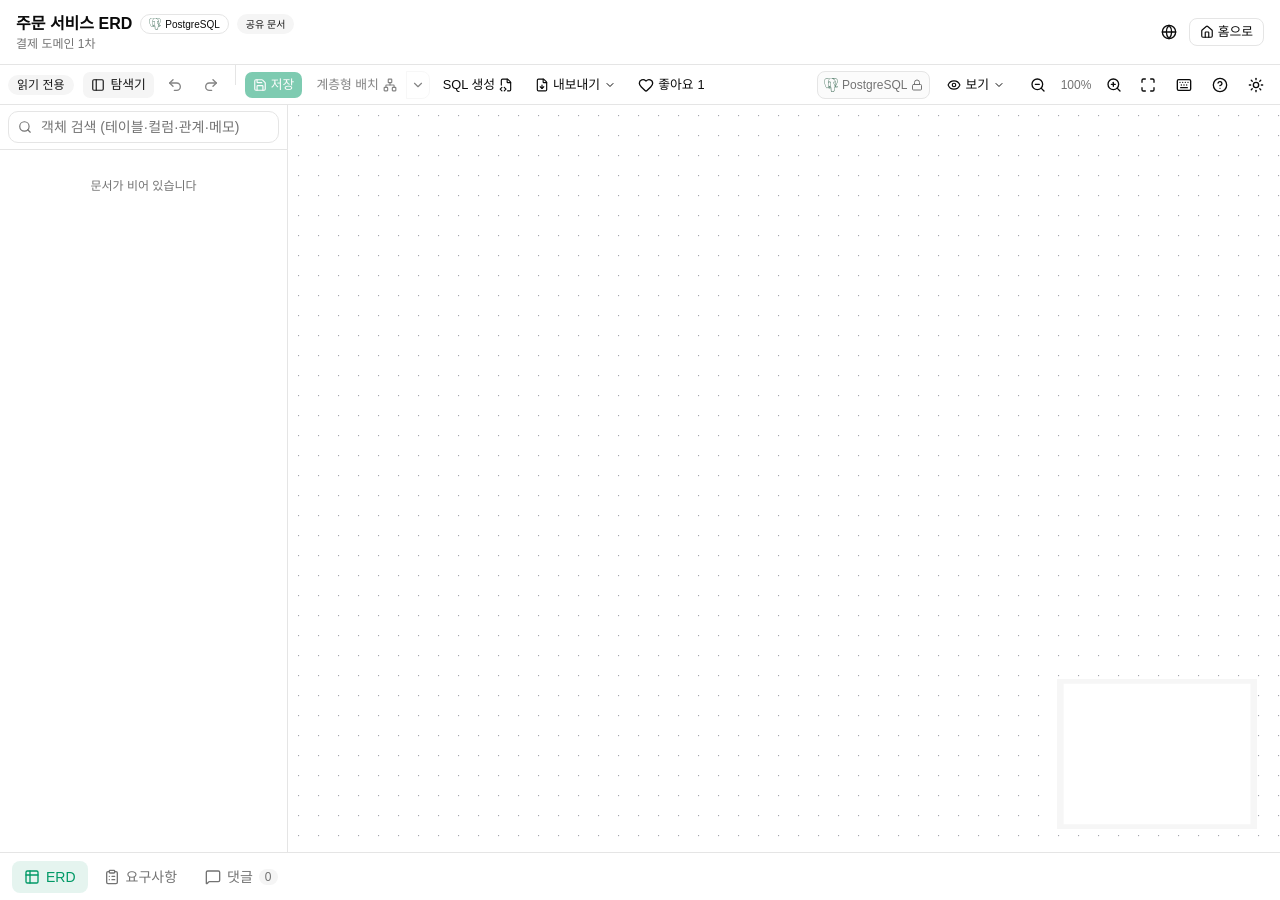
Test: 공유 문서 공개 뷰어 › bumps the comments tab badge as a comment arrives — 좋아요는 배지에 합산하지 않는다(2026-09-27 2차 보고)
Check: the text "0" is shown, box [259,868,278,884]
Click the tab "댓글 0" at (241, 876), box [193,860,290,892]
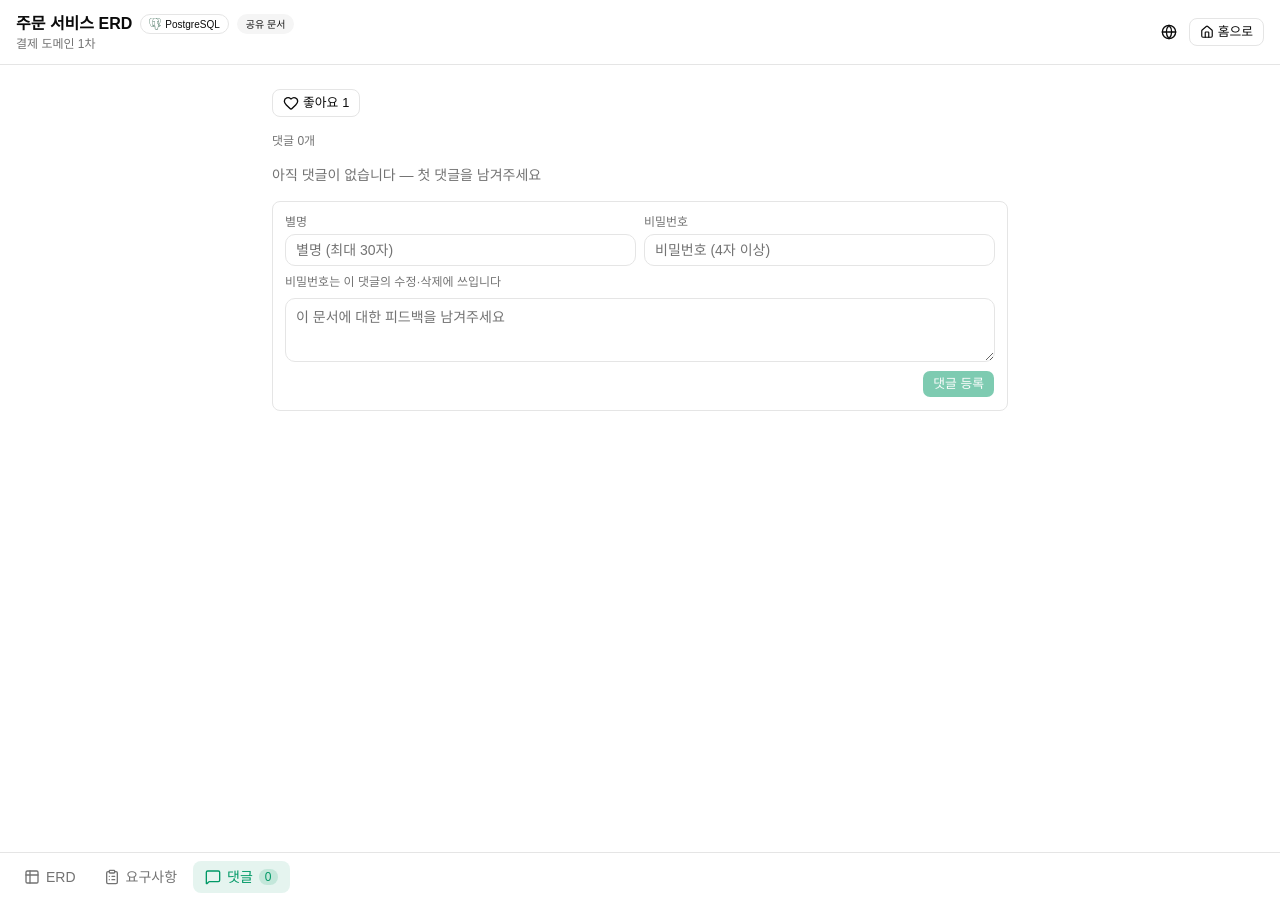
Check: the element with test id "share-feedback-section" is shown
Type "방문자" into the field with test id "share-feedback-nickname" at (460, 250), box [285,234,636,266]
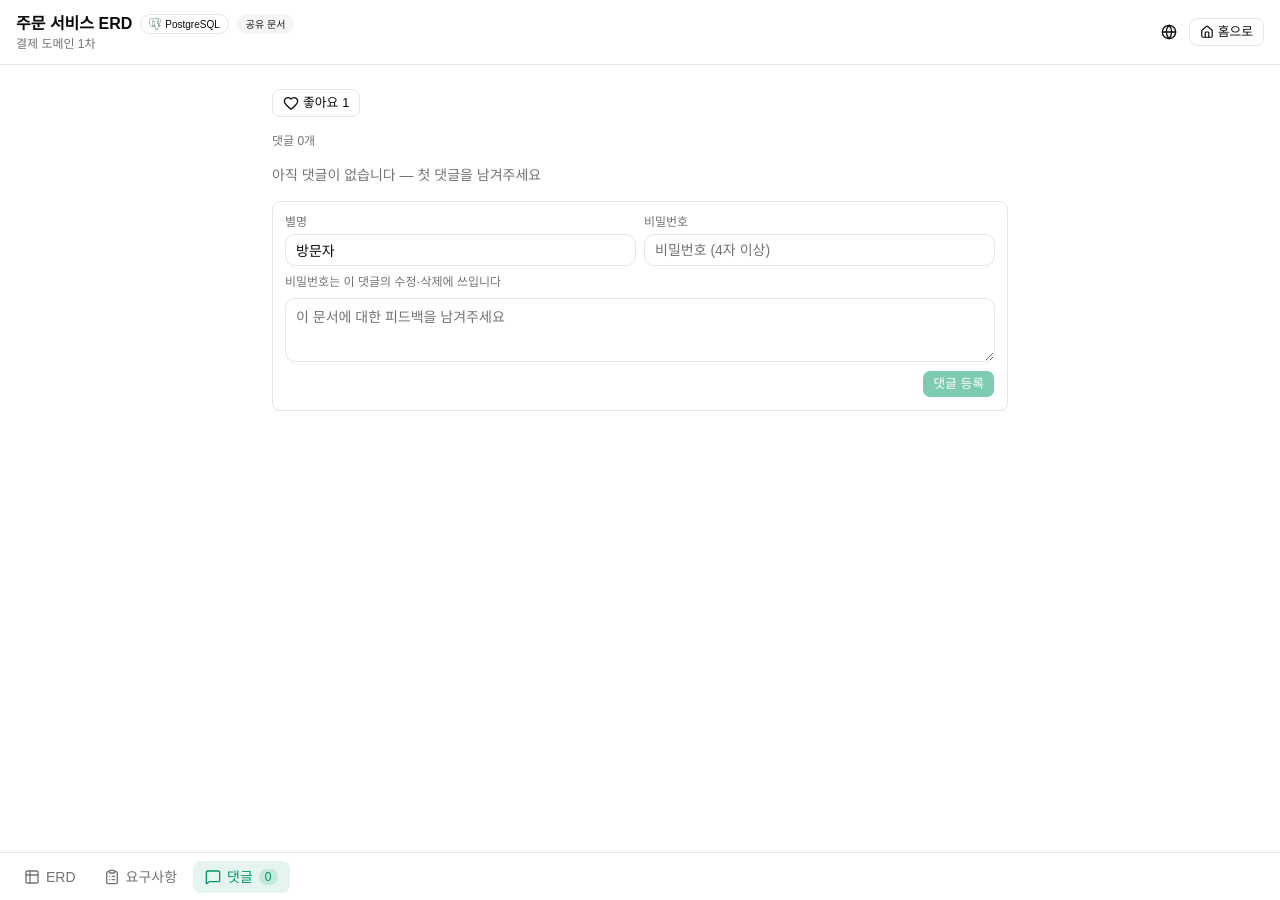
Type "1234" into the password field with test id "share-feedback-password" at (820, 250), box [644,234,995,266]
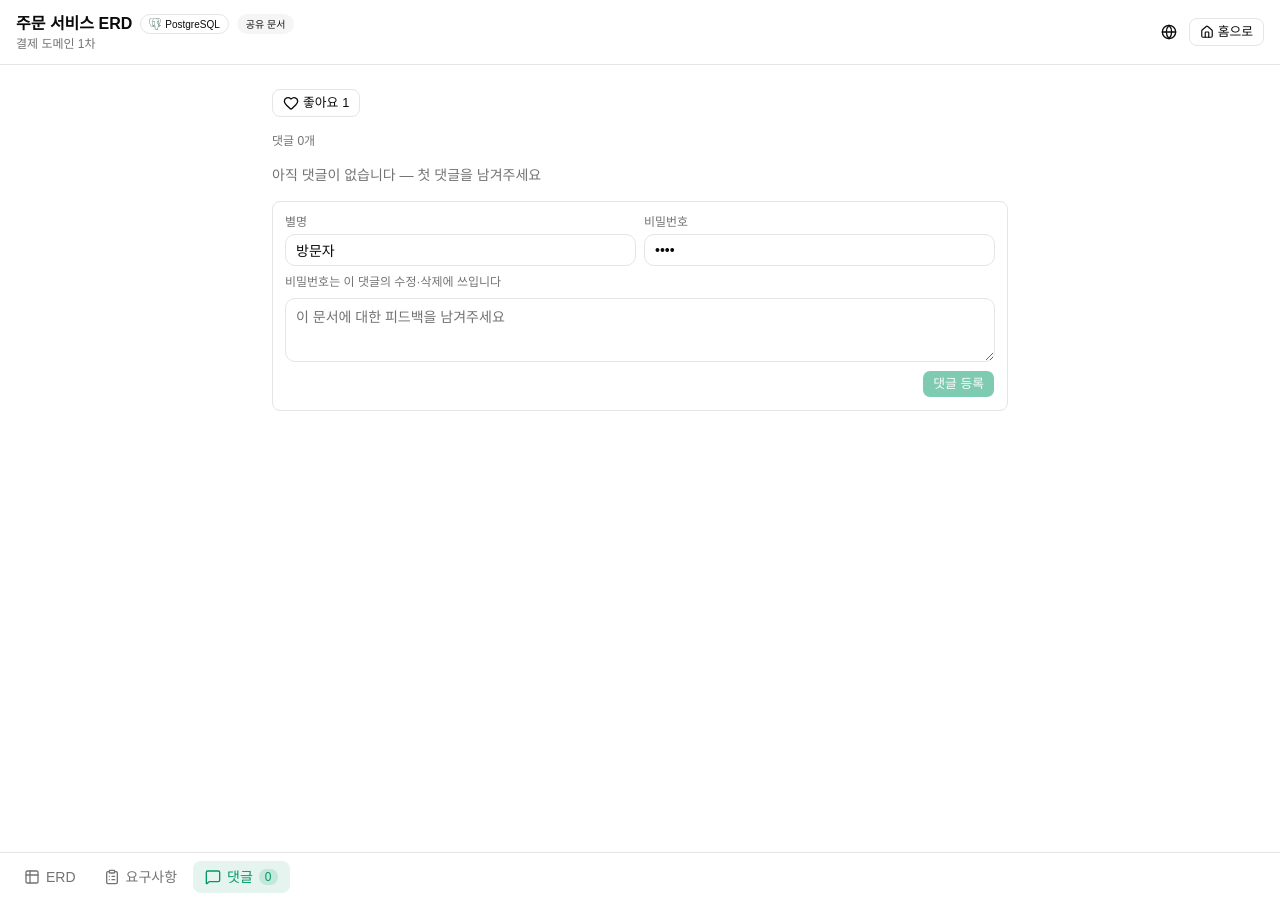
Type "구조가 한눈에 들어옵니다." into the text box with test id "share-feedback-content" at (640, 330), box [285,298,995,362]
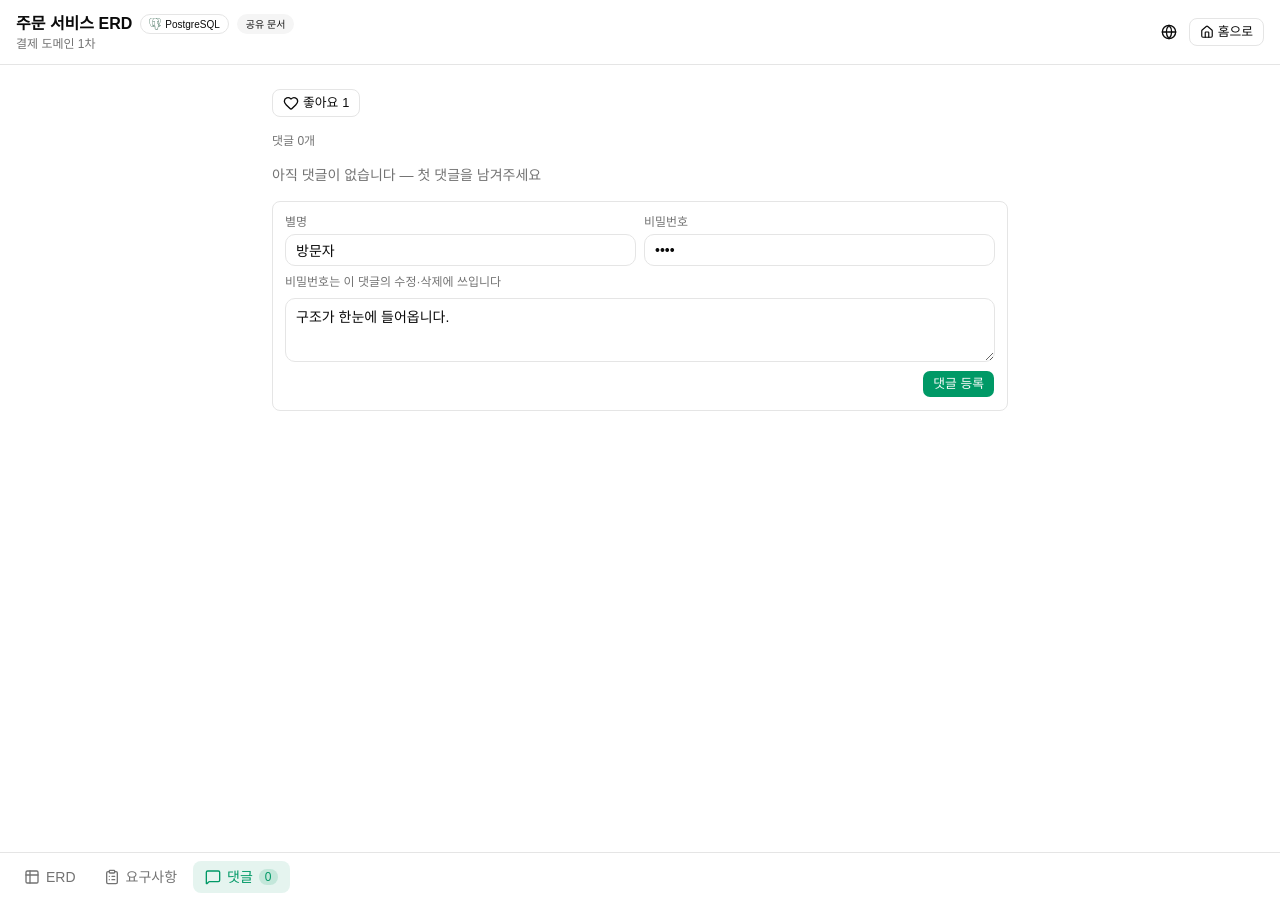
Click the button with test id "share-feedback-submit" at (959, 384), box [922,370,995,398]
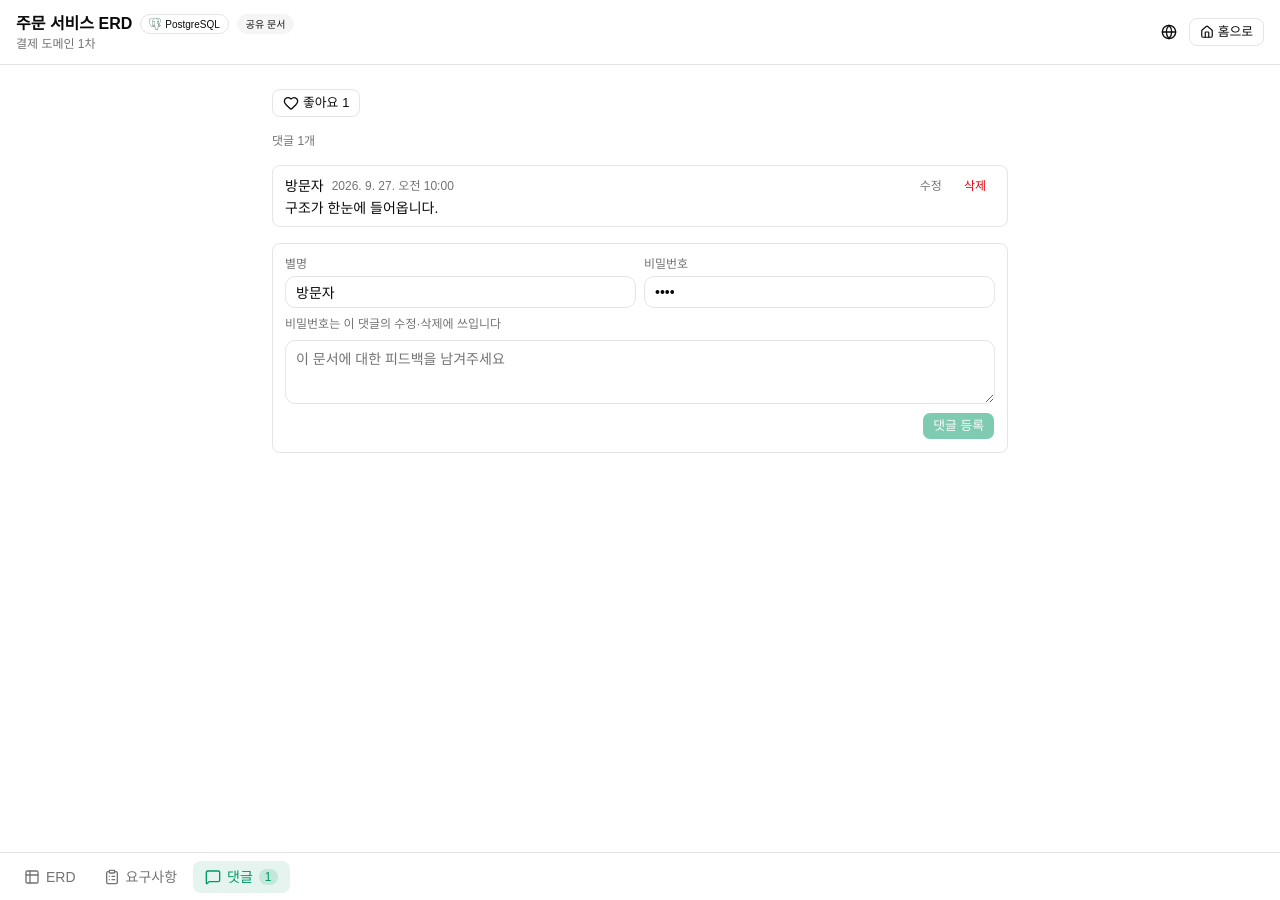
Check: the 2nd text "1" is shown, box [259,868,278,884]
Check: the list with test id "share-comment-list" is shown, box [272,165,1008,227]
